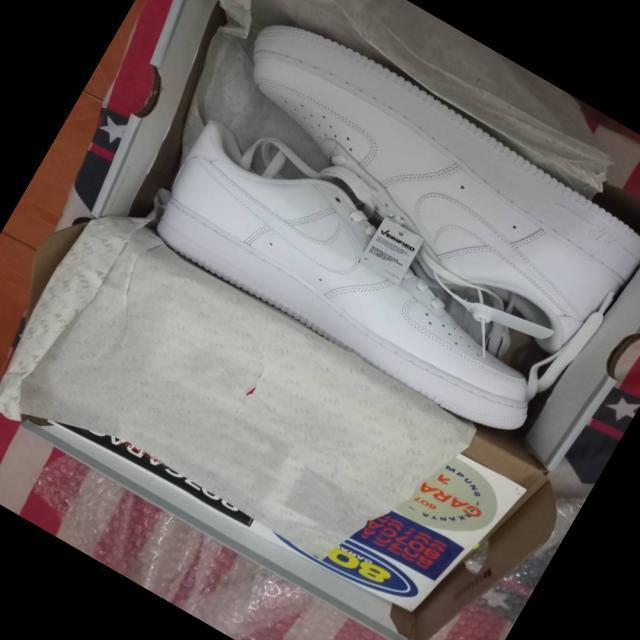nike original air force: (195, 0, 640, 365), (131, 102, 583, 455)
